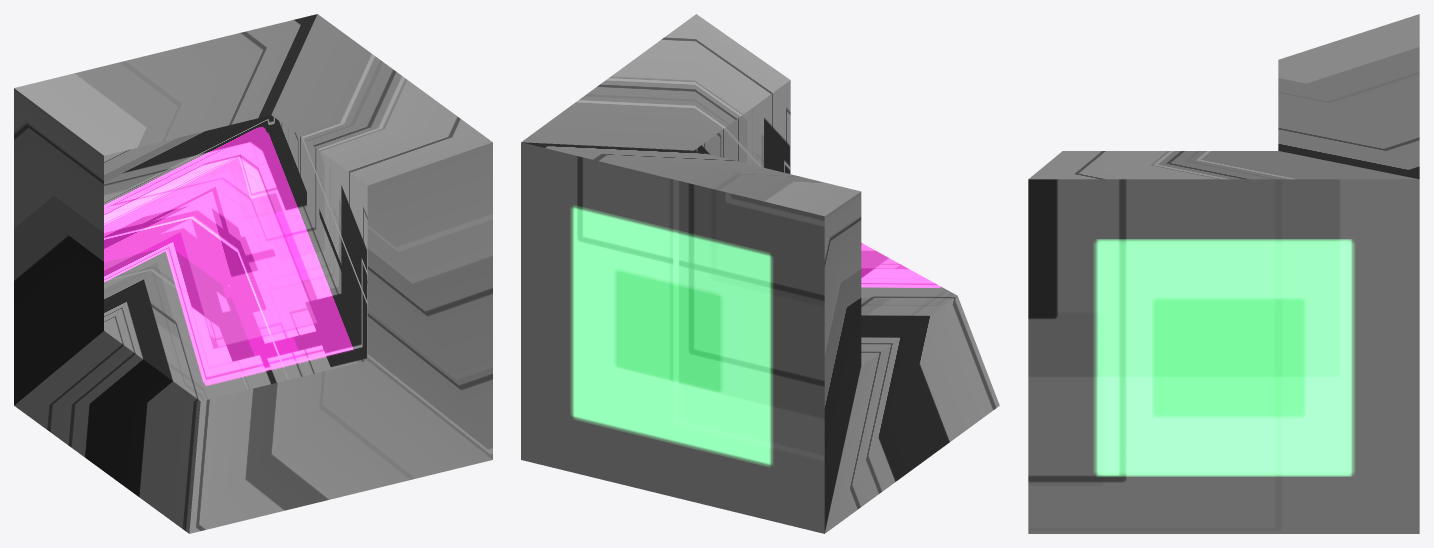
The model's file is corner_cube_enemy.fbx.
3 renders of one model, left to right at view 1: azimuth 30°, elevation 25°; view 2: azimuth 150°, elevation 25°; view 3: azimuth 270°, elevation 25°, orthographic. The views are drawn at different scales.
Visible parts, largest first — view 1: polySurface6; view 2: polySurface6; view 3: polySurface6.
Boxes of the visible parts, x1,y1,x2,y2 form: polySurface6: (14, 14, 492, 533); polySurface6: (521, 14, 999, 533); polySurface6: (1028, 14, 1419, 533).
Bounding box in the file's own units: 0.454 × 0.454 × 0.454.
